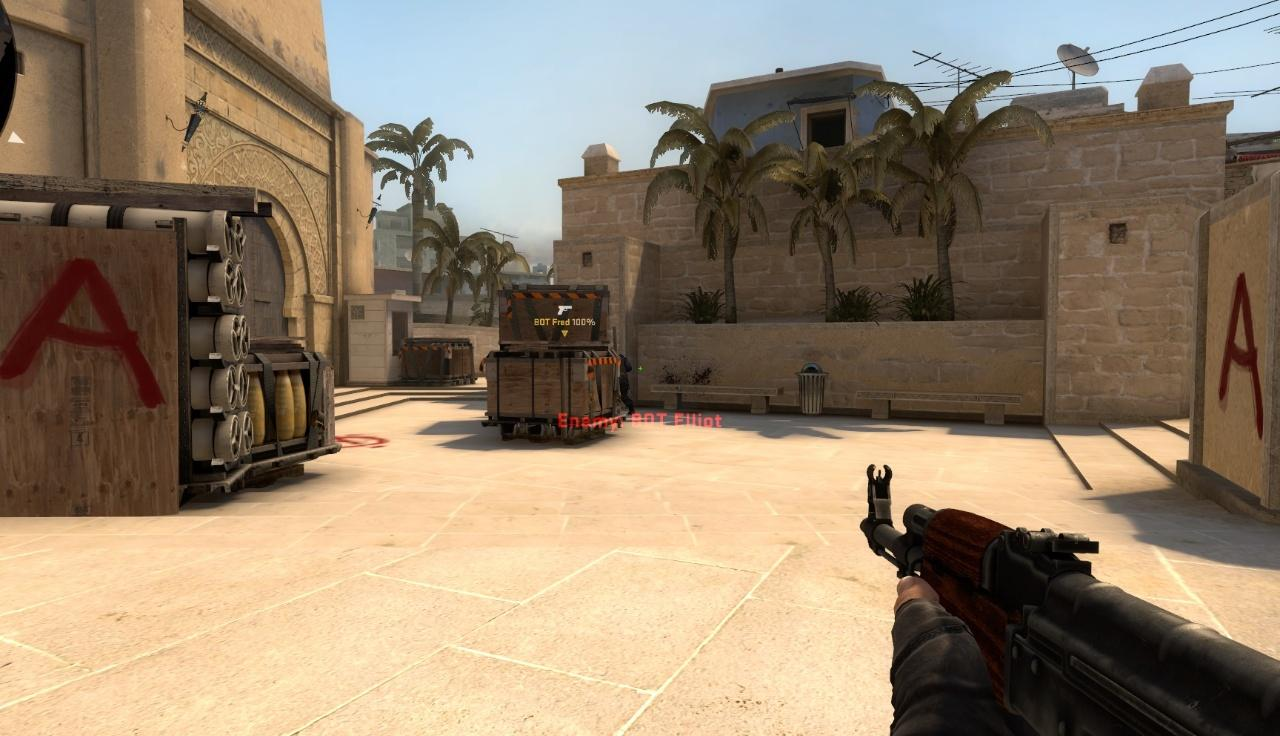ct: (618, 354, 633, 415)
rifle: (860, 461, 1280, 736)
